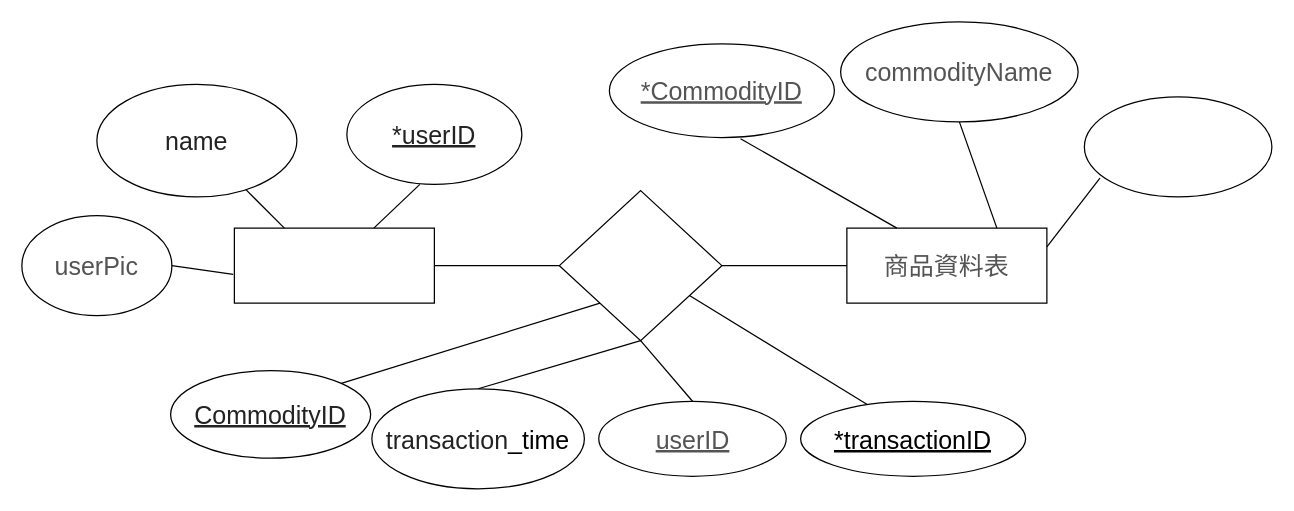
Image size: 1294x511. Some labels were removed from this diagram. Each missing label, with the box of its shape:
photo1~...8: (1083, 96, 1272, 197)
交易資料表: (558, 189, 722, 341)
客戶資料表: (233, 227, 434, 303)
